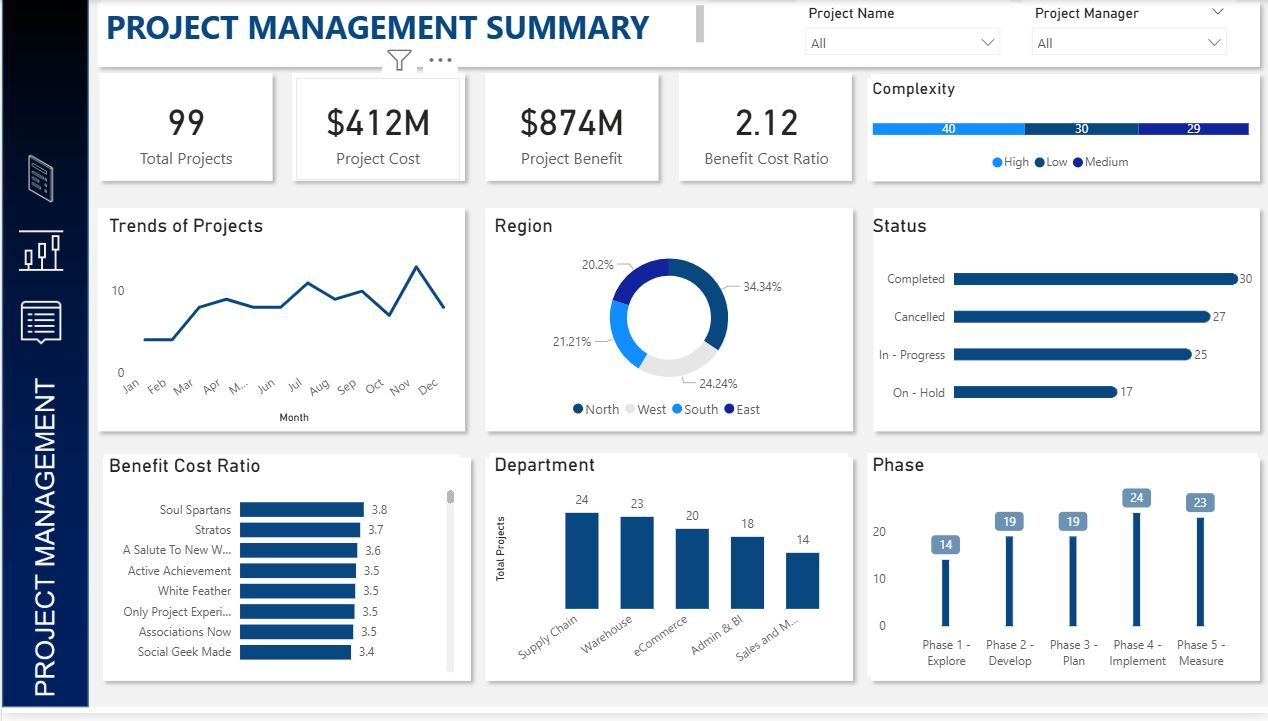

This screenshot's page, from the dashboard's own definition file:
{"tool":"powerbi","page":{"name":"Project Summary","canvas":[1280,720],"ordinal":0},"visuals":[{"type":"card","fields":{"Values":["Measures (2).Total Projects"]},"box":[103.3,78.3,165,103.3],"z":0},{"type":"card","fields":{"Values":["Measures (2).Project Cost"]},"box":[296.7,78.3,165,103.3],"z":1000},{"type":"card","fields":{"Values":["Measures (2).Project Benefit"]},"box":[491.7,78.3,165,103.3],"z":2000},{"type":"card","fields":{"Values":["Measures (2).Benefit Cost Ratio"]},"box":[688.3,78.3,165,103.3],"z":3000},{"type":"barChart","title":"Complexity","fields":{"Y":["Measures (2).Total Projects"],"Series":["Project Management Dataset (1).Complexity"]},"box":[873.3,78.3,393.3,103.3],"z":4000},{"type":"lineChart","title":"Trends of Projects","fields":{"Y":["Measures (2).Total Projects"],"Category":["Date Table.Month Name"]},"box":[103.3,216.7,358.3,215],"z":5000},{"type":"donutChart","title":"Region","fields":{"Category":["Project Management Dataset (1).Region"],"Y":["Measures (2).Total Projects"]},"box":[491.7,216.7,361.7,215],"z":6000},{"type":"barChart","title":"Benefit Cost Ratio","fields":{"Y":["Measures (2).Benefit Cost Ratio"],"Category":["Project Management Dataset (1).Project Name"]},"box":[103.3,458.3,358.3,225],"z":7000},{"type":"columnChart","title":"Department","fields":{"Category":["Project Management Dataset (1).Department"],"Y":["Measures (2).Total Projects"]},"box":[492,458,362,225],"z":8000},{"type":"barChart","title":"Status","fields":{"Category":["Project Management Dataset (1).Status"],"Y":["Measures (2).Total Projects"]},"box":[873,217,393,215],"z":9000},{"type":"columnChart","title":"Phase","fields":{"Y":["Measures (2).Total Projects"],"Category":["Project Management Dataset (1).Phase"]},"box":[873,458,393,225],"z":10000},{"type":"slicer","fields":{"Values":["Project Management Dataset (1).Project Name"]},"box":[801.7,0,216.7,66.7],"z":11000},{"type":"slicer","fields":{"Values":["Project Management Dataset (1).Project Manager"]},"box":[1030,0,216.7,66.7],"z":12000},{"type":"textbox","box":[100,0,613.3,50],"z":13000},{"type":"image","box":[15,156.7,48.3,48.3],"z":14000},{"type":"image","box":[15,300,48.3,48.3],"z":15000},{"type":"image","box":[15,228.3,48.3,48.3],"z":16000}]}

Visuals, with their boxes on the page's 1280x720 design canvas (x1, y1, x2, y2). These are canvas units, not pixel positions in the 1268x721 screenshot, which may show the page scaled, cropped or inside an application window:
card - Measures (2).Total Projects: <region>103, 78, 268, 182</region>
card - Measures (2).Project Cost: <region>297, 78, 462, 182</region>
card - Measures (2).Project Benefit: <region>492, 78, 657, 182</region>
card - Measures (2).Benefit Cost Ratio: <region>688, 78, 853, 182</region>
"Complexity" barChart: <region>873, 78, 1267, 182</region>
"Trends of Projects" lineChart: <region>103, 217, 462, 432</region>
"Region" donutChart: <region>492, 217, 853, 432</region>
"Benefit Cost Ratio" barChart: <region>103, 458, 462, 683</region>
"Department" columnChart: <region>492, 458, 854, 683</region>
"Status" barChart: <region>873, 217, 1266, 432</region>
"Phase" columnChart: <region>873, 458, 1266, 683</region>
slicer - Project Management Dataset (1).Project Name: <region>802, 0, 1018, 67</region>
slicer - Project Management Dataset (1).Project Manager: <region>1030, 0, 1247, 67</region>
textbox: <region>100, 0, 713, 50</region>
image: <region>15, 157, 63, 205</region>
image: <region>15, 300, 63, 348</region>
image: <region>15, 228, 63, 277</region>
